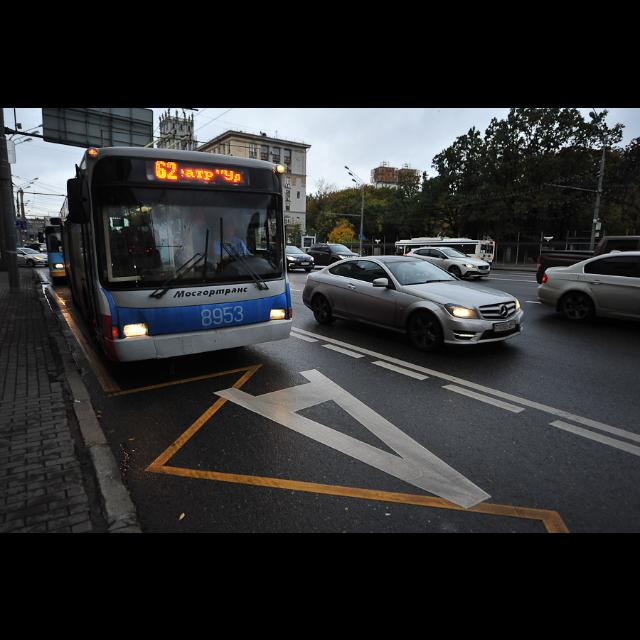road: (44, 271, 639, 532)
